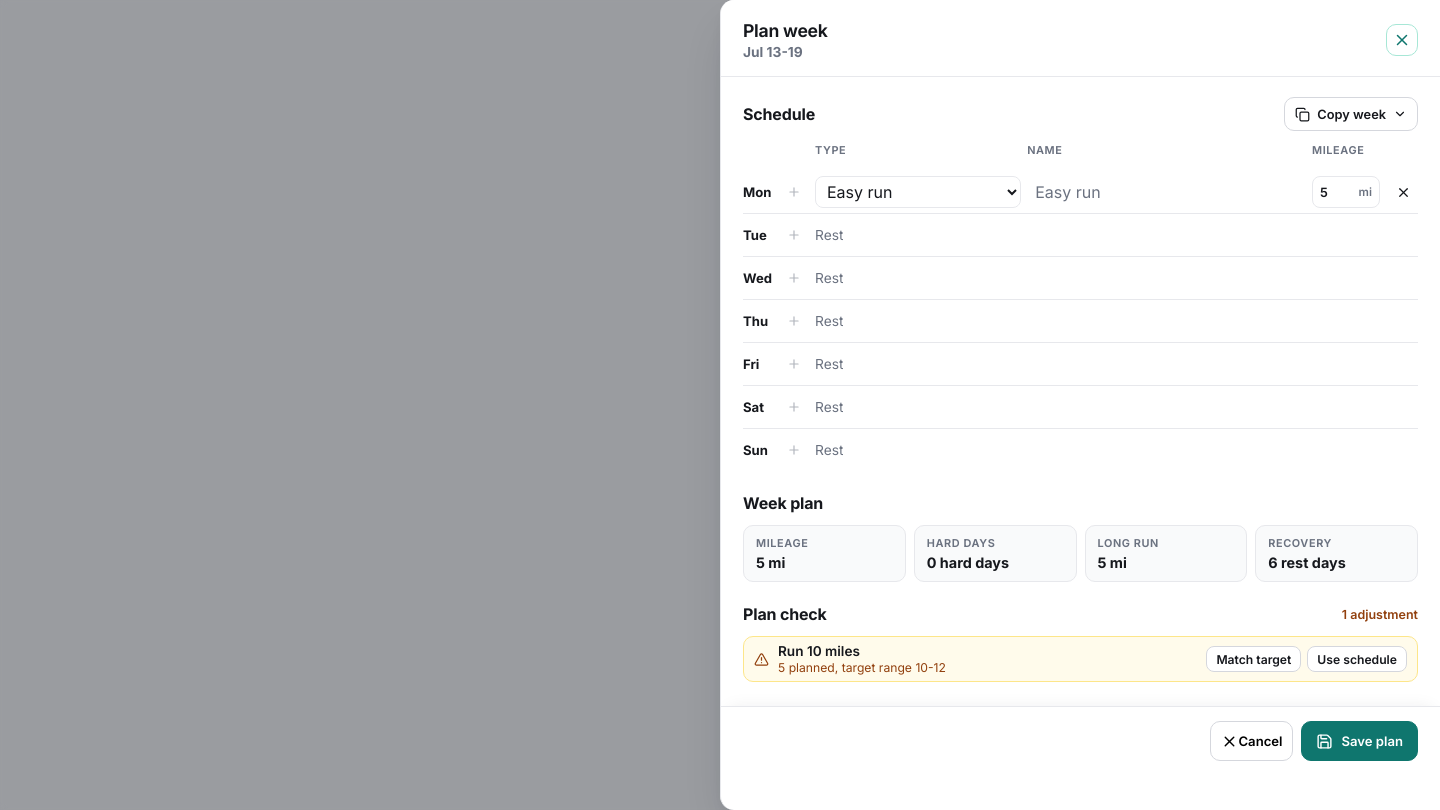
Test: PlanWeekDrawer › copies any selected week into matching weekdays
Step 1. Click the button "Copy week" → (1351, 114), box [1284, 97, 1418, 131]
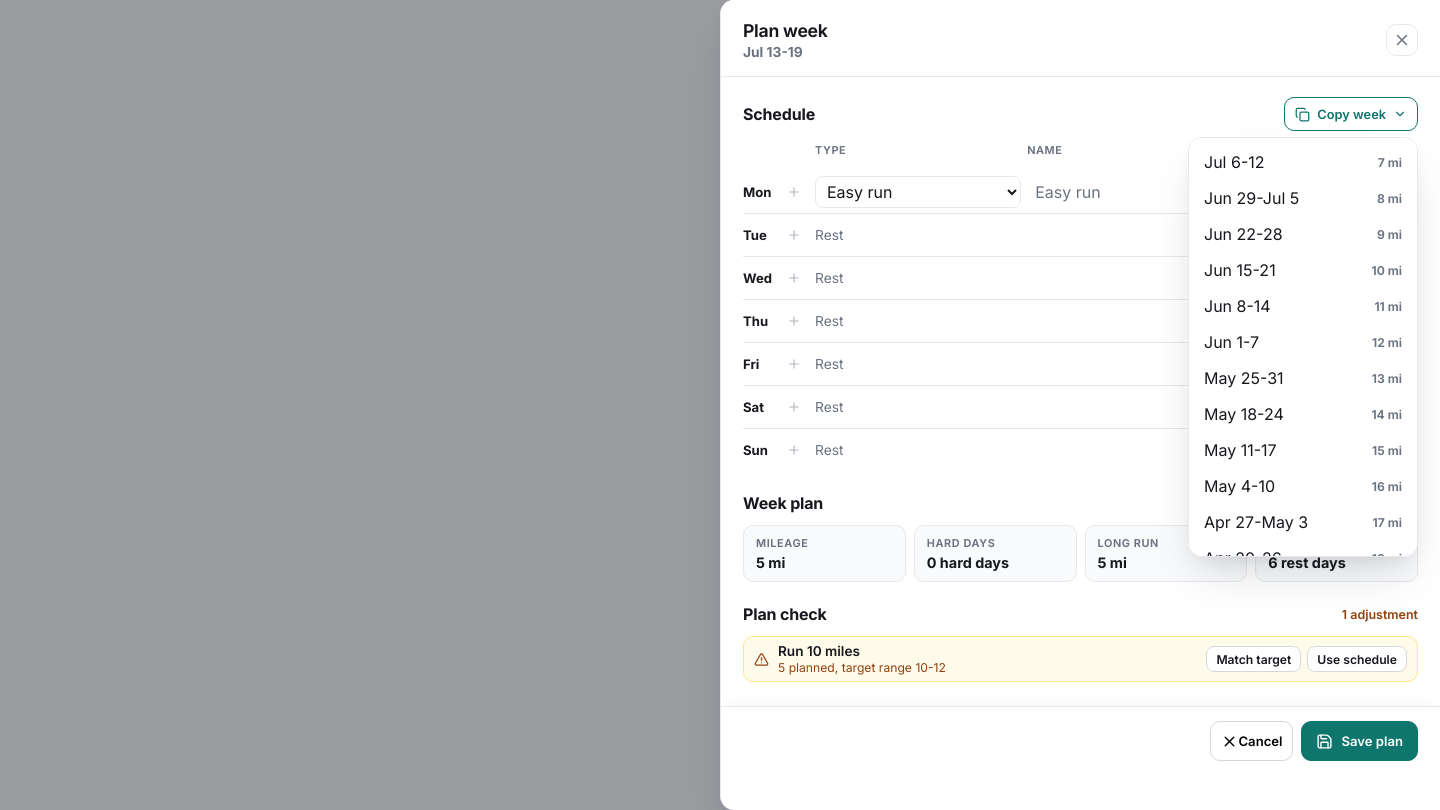
Step 2. Click the menu item with aria-label "Copy Jun 22-28, 9 miles" → (1303, 234), box [1195, 216, 1411, 252]
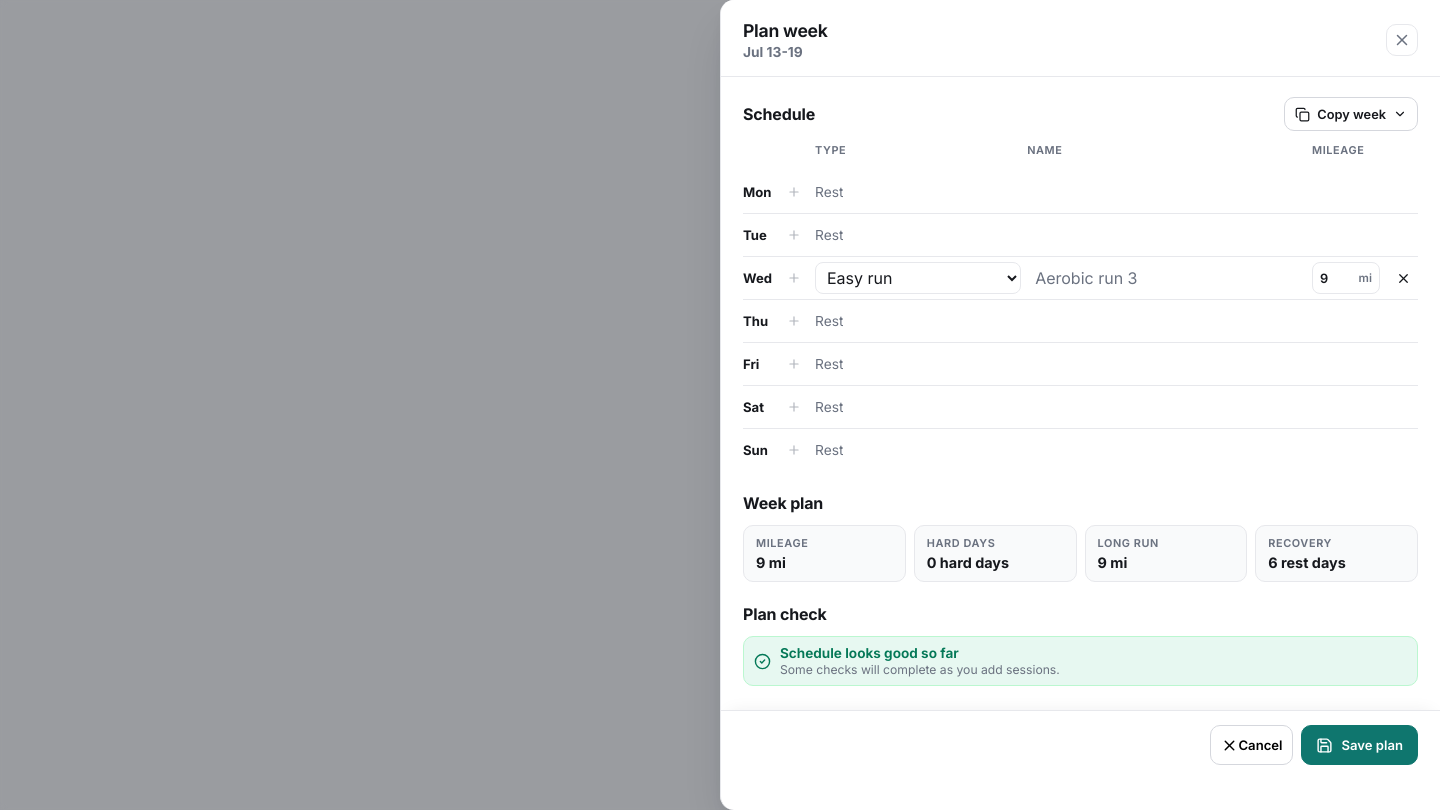
Now the field named "Wed session 1 name" holds "Aerobic run 3", box [1027, 262, 1306, 294]
Now the number field named "Wed session 1 mileage" holds "9", box [1313, 263, 1353, 293]
